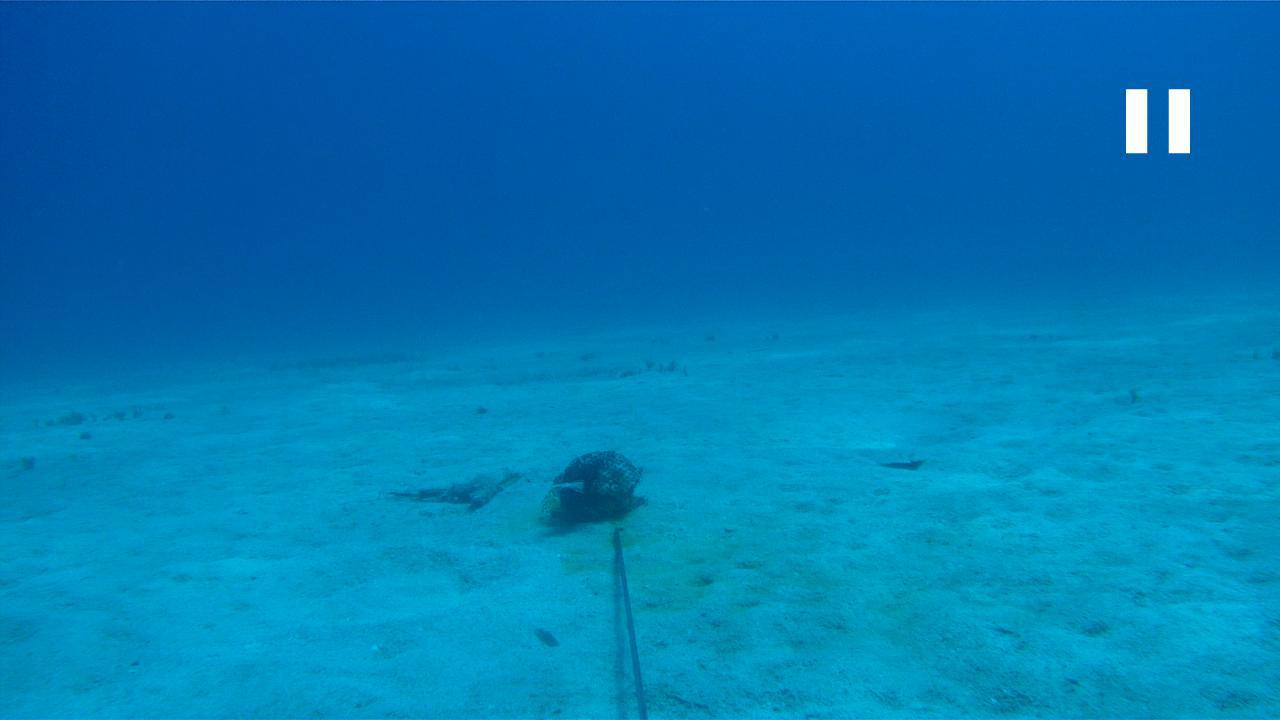bothus: (872, 444, 932, 470)
